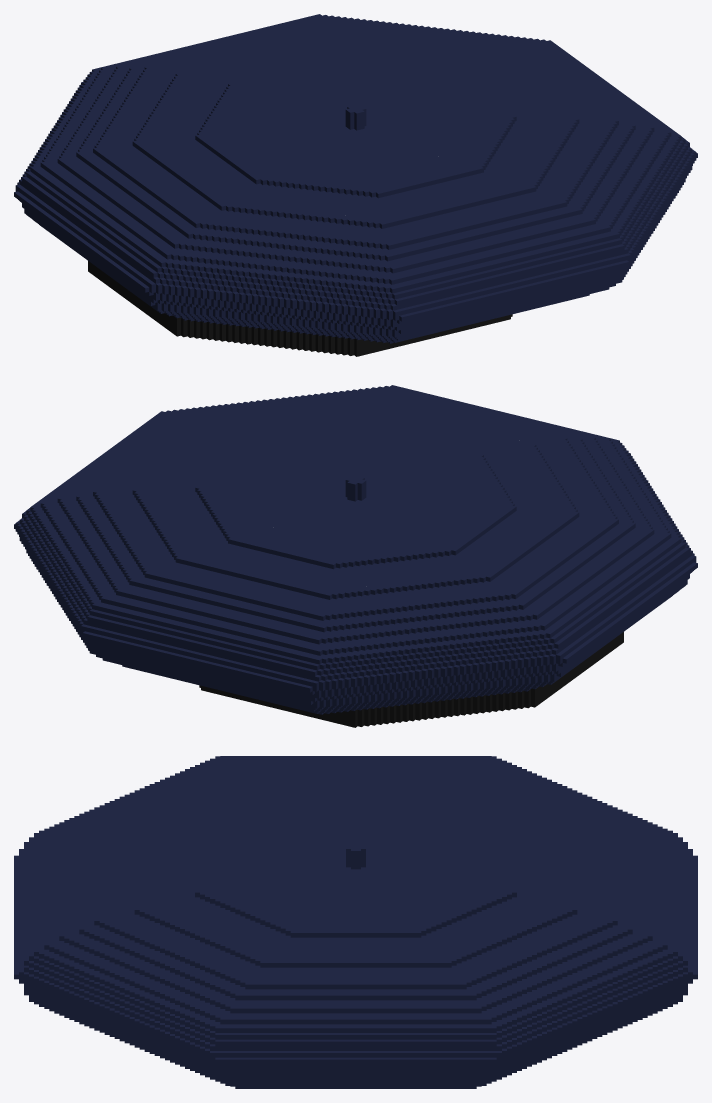
Rendered from beret.glb.
3 views of the same model, one above another, from view 1: azimuth 30°, elevation 25°; view 2: azimuth 150°, elevation 25°; view 3: azimuth 270°, elevation 25° (orthographic). The views are drawn at different scales.
Parts seen in each view (by area): view 1: beret:compound; view 2: beret:compound; view 3: beret:compound.
Part boxes in pixels (box(x1,y1,x2,y2)): beret:compound: box(14, 14, 697, 356); beret:compound: box(14, 385, 697, 727); beret:compound: box(14, 756, 697, 1088).
Size of the model in its own units: 0.272 by 0.066 by 0.272.
